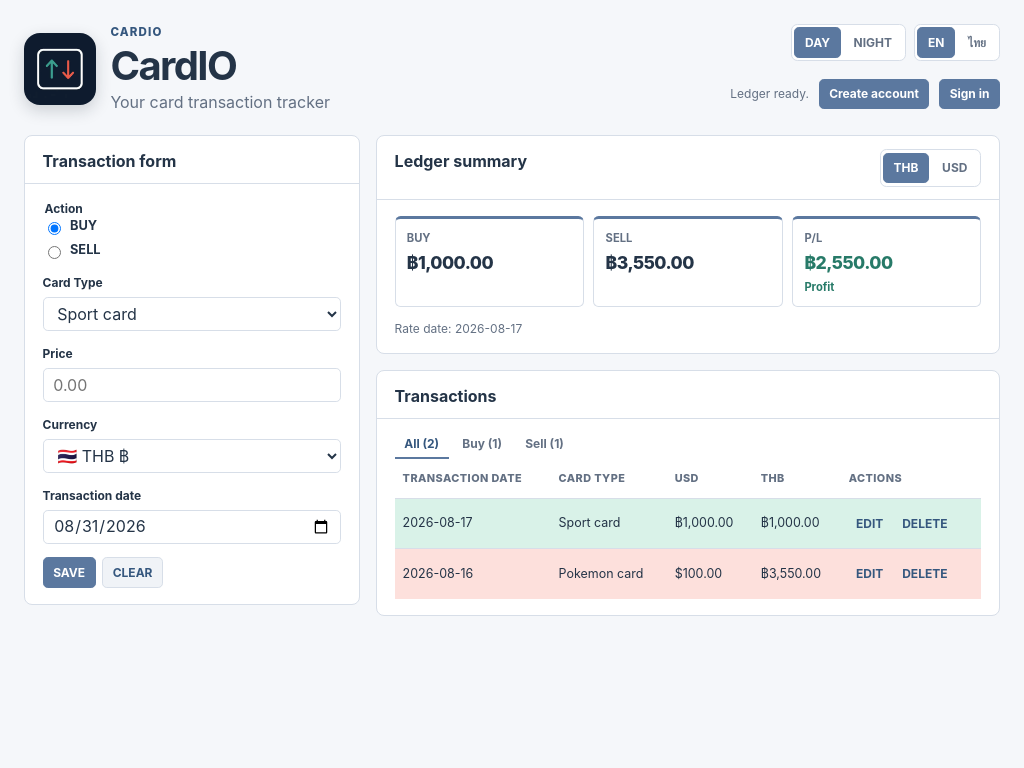
Test: App › clears edit mode after deleting the transaction currently being edited
The width and height of the screenshot is (1024, 768).
Expected: the heading "CardIO" is shown, top-left (110, 41), bottom-right (236, 90)
Click the button "Sell (1)": (544,444) top-left (516, 429), bottom-right (573, 459)
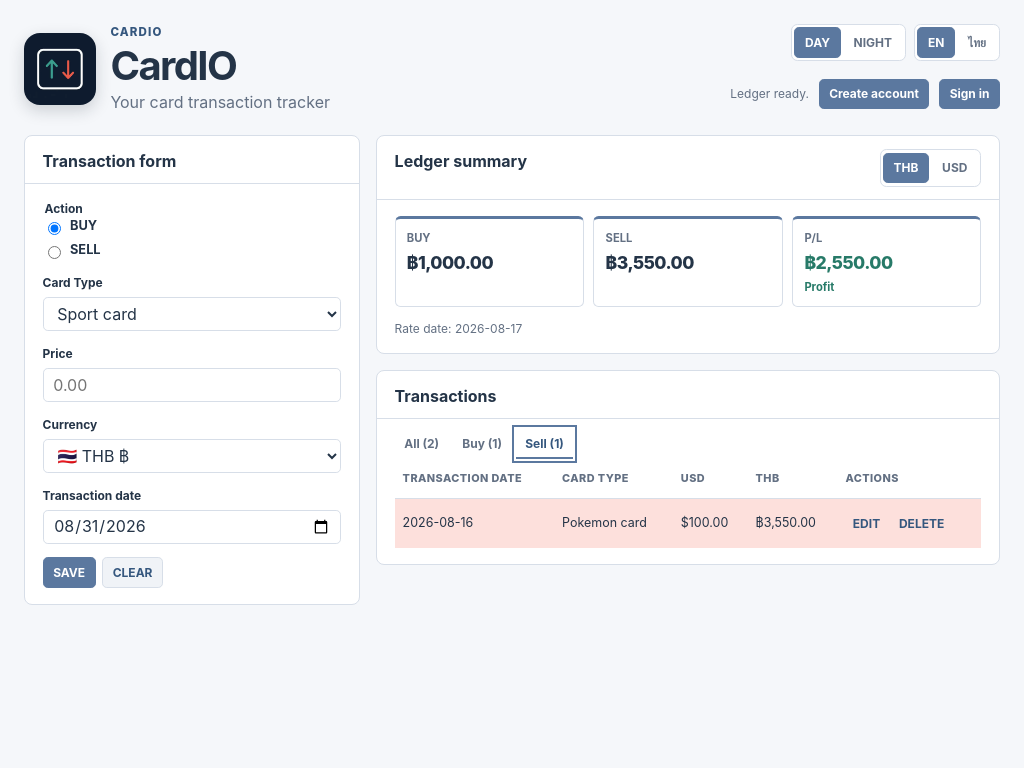
Click the button with aria-label "Edit Pokemon card": (866,523) top-left (845, 510), bottom-right (888, 537)
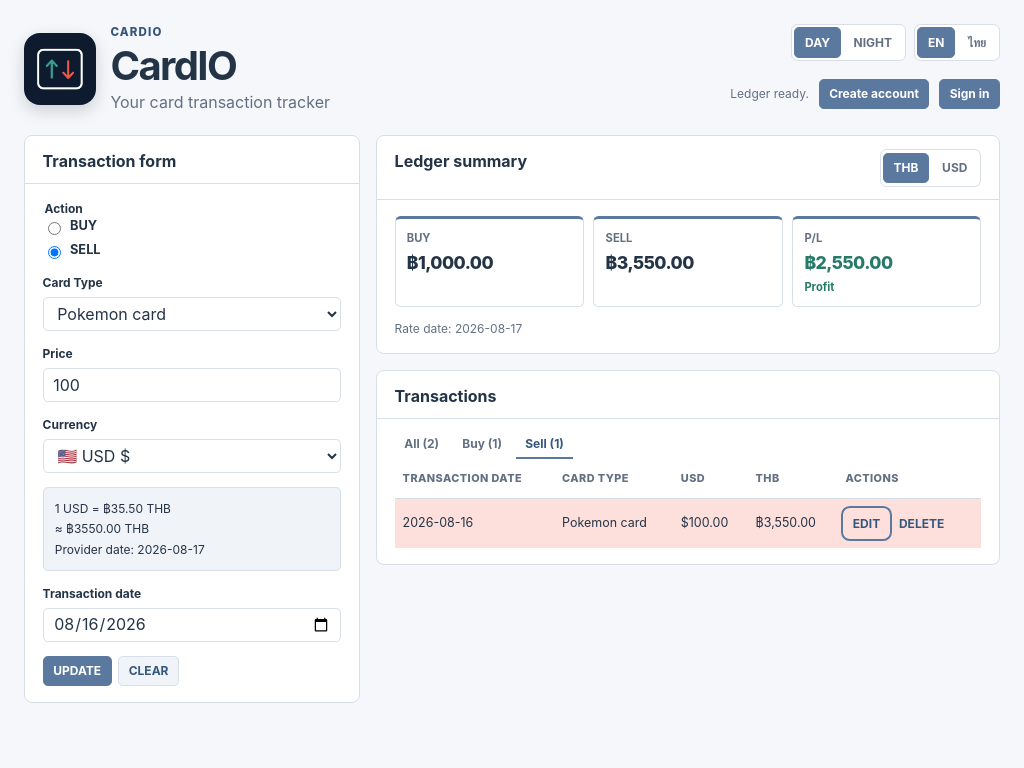
Expected: the button "UPDATE" is shown, top-left (43, 656), bottom-right (112, 686)
Click the button with aria-label "Delete Pokemon card": (922,523) top-left (892, 510), bottom-right (952, 537)
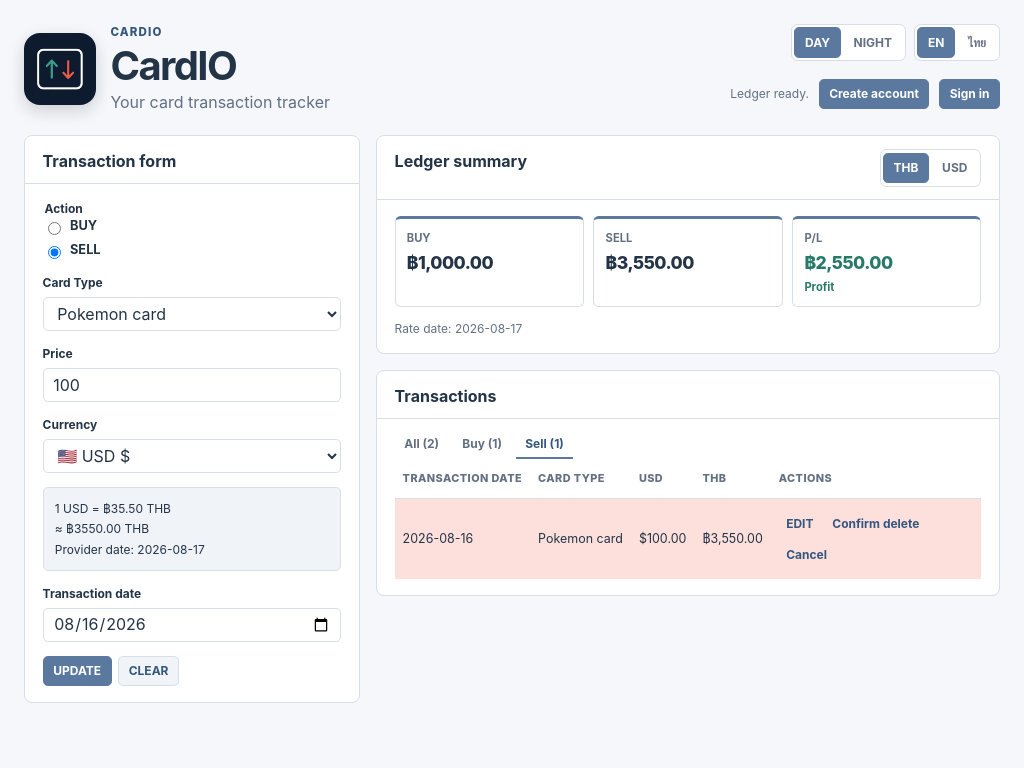
Click the button "Confirm delete": (876,523) top-left (825, 510), bottom-right (927, 537)
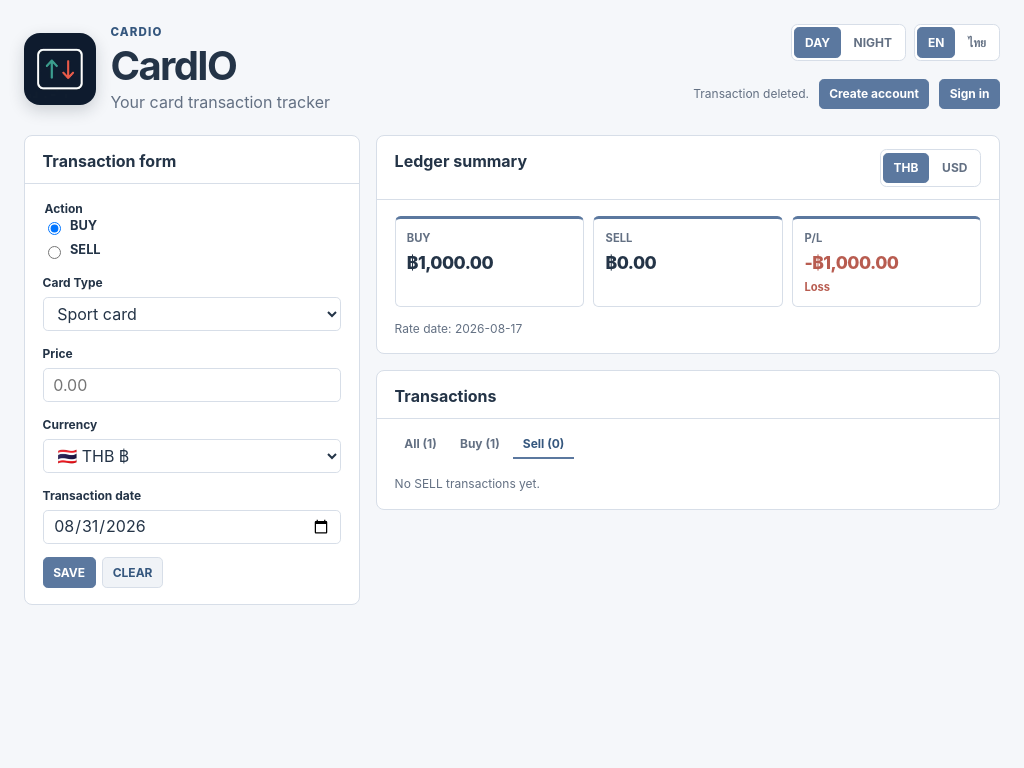
Expected: the button "SAVE" is shown, top-left (43, 558), bottom-right (96, 588)
Expected: the radio button labelled "BUY" is checked, top-left (48, 222), bottom-right (61, 235)
Expected: the field labelled "Price" is empty, top-left (43, 368), bottom-right (341, 402)
